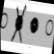correct: (26, 13, 40, 38)
not correct: (9, 1, 28, 43)
